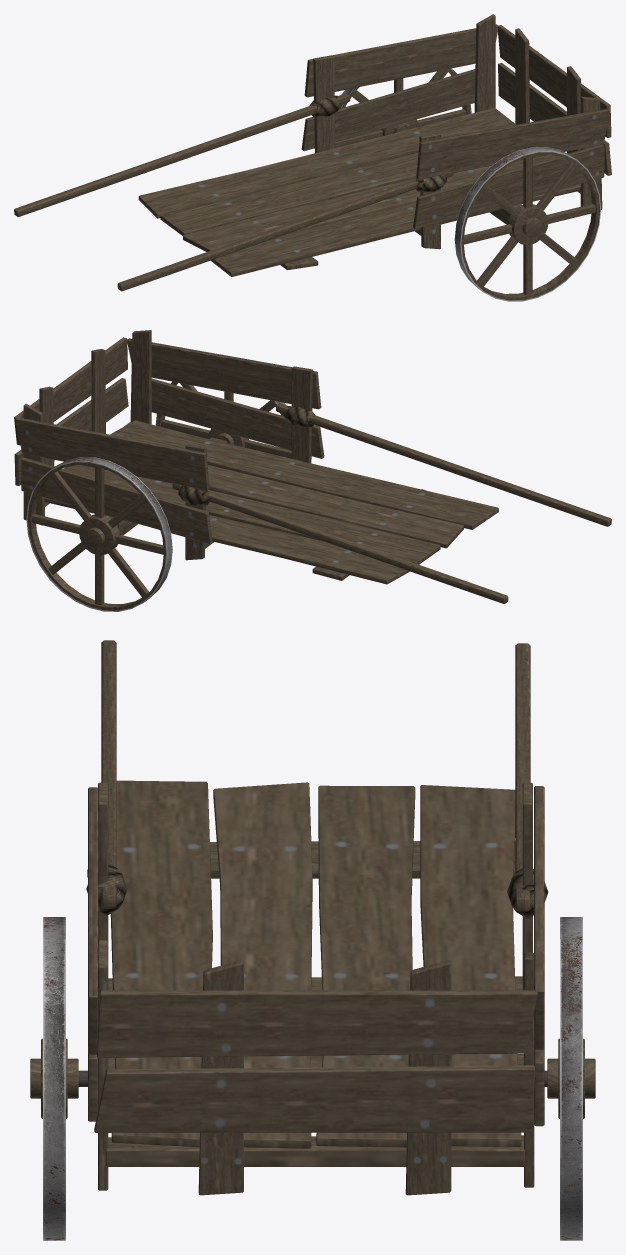
The model's file is Waggon1.fbx.
3 views of the same model, one above another, from view 1: azimuth 30°, elevation 25°; view 2: azimuth 150°, elevation 25°; view 3: azimuth 270°, elevation 25° (orthographic). The views are drawn at different scales.
Visible parts, largest first — view 1: WaggonMesh1; view 2: WaggonMesh1; view 3: WaggonMesh1.
Boxes of the visible parts, <box> form: WaggonMesh1: <box>14,14,611,301</box>; WaggonMesh1: <box>14,330,611,611</box>; WaggonMesh1: <box>30,640,595,1240</box>.
Size of the model in its own units: 11.76 by 4.02 by 5.88.
